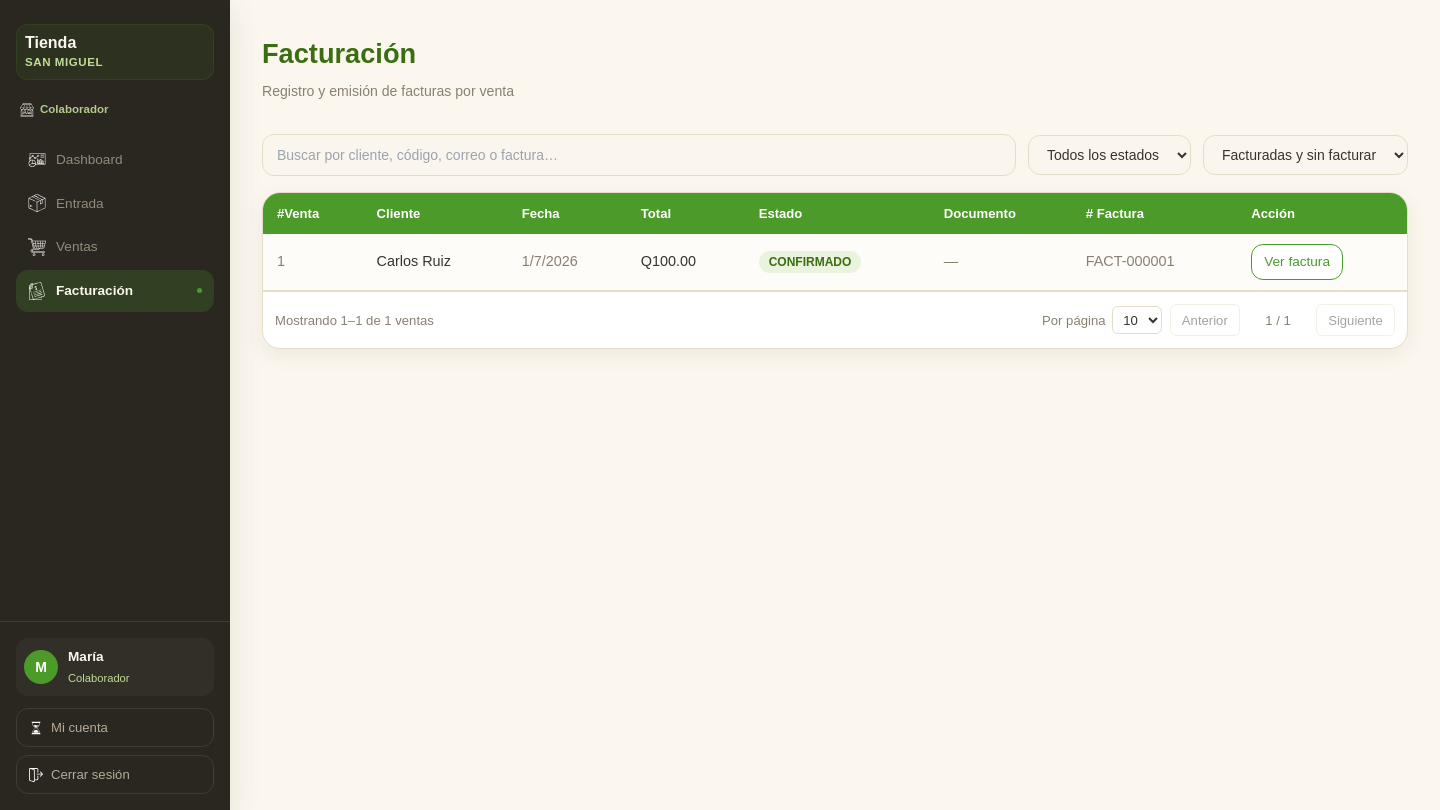
Test: FacturacionPage › shows an empty message when no results match the filters
The image size is (1440, 810).
Expected: the text "Carlos Ruiz" is shown, [363,234,508,290]
Step 1. Type "no-existe" into the search field named "Buscar en facturación" → (639, 155), box [262,134,1016,176]
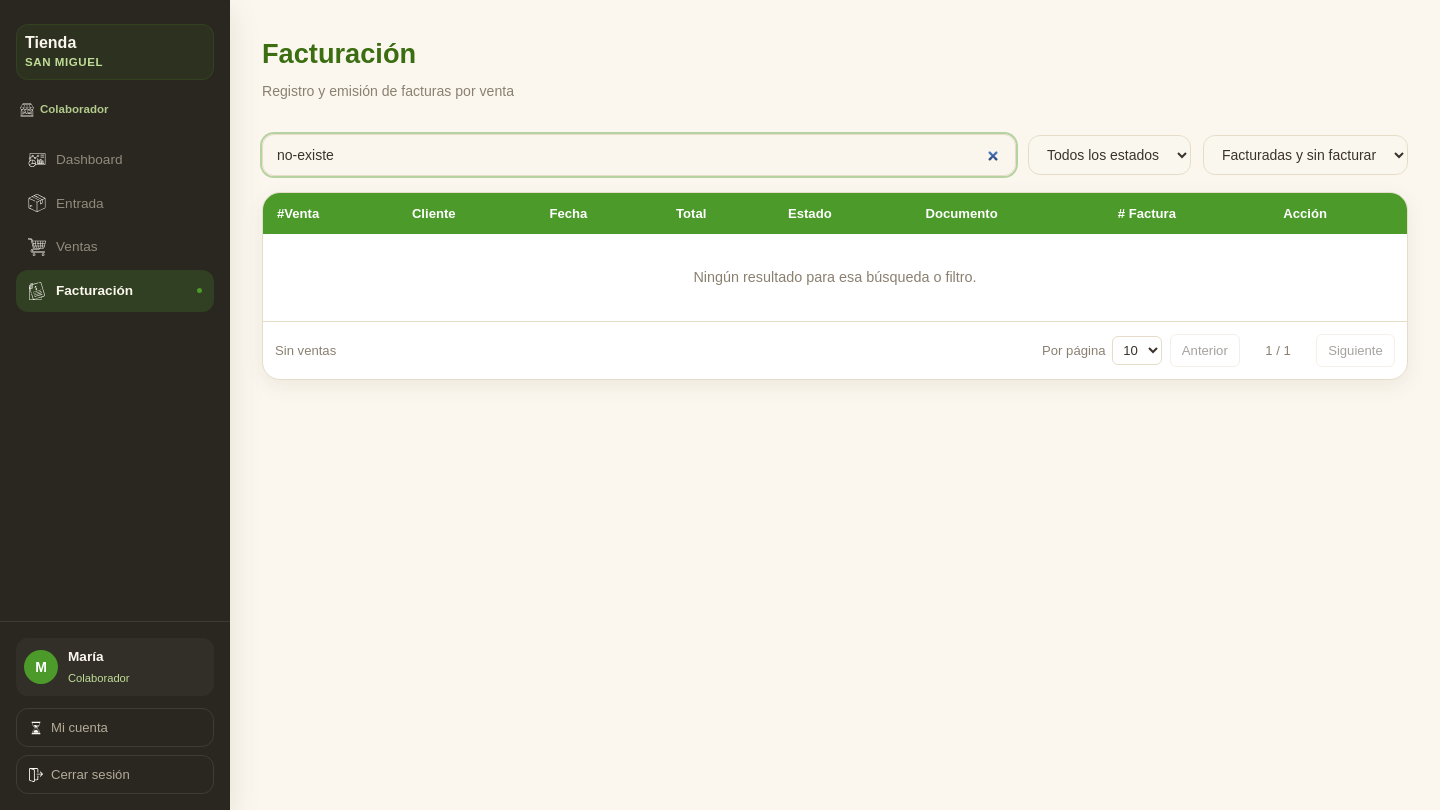
Expected: the text "Ningún resultado para esa búsqueda o filtro." is shown, [263,234,1407,321]
